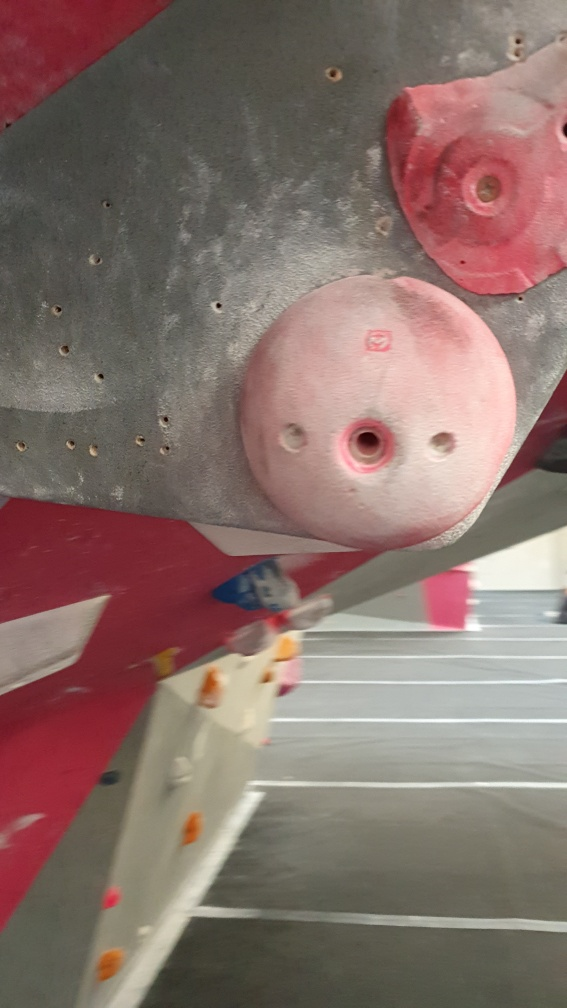Jug: (211, 559, 309, 614)
Pinch: (1, 589, 114, 702)
Sloper: (232, 271, 516, 553)
